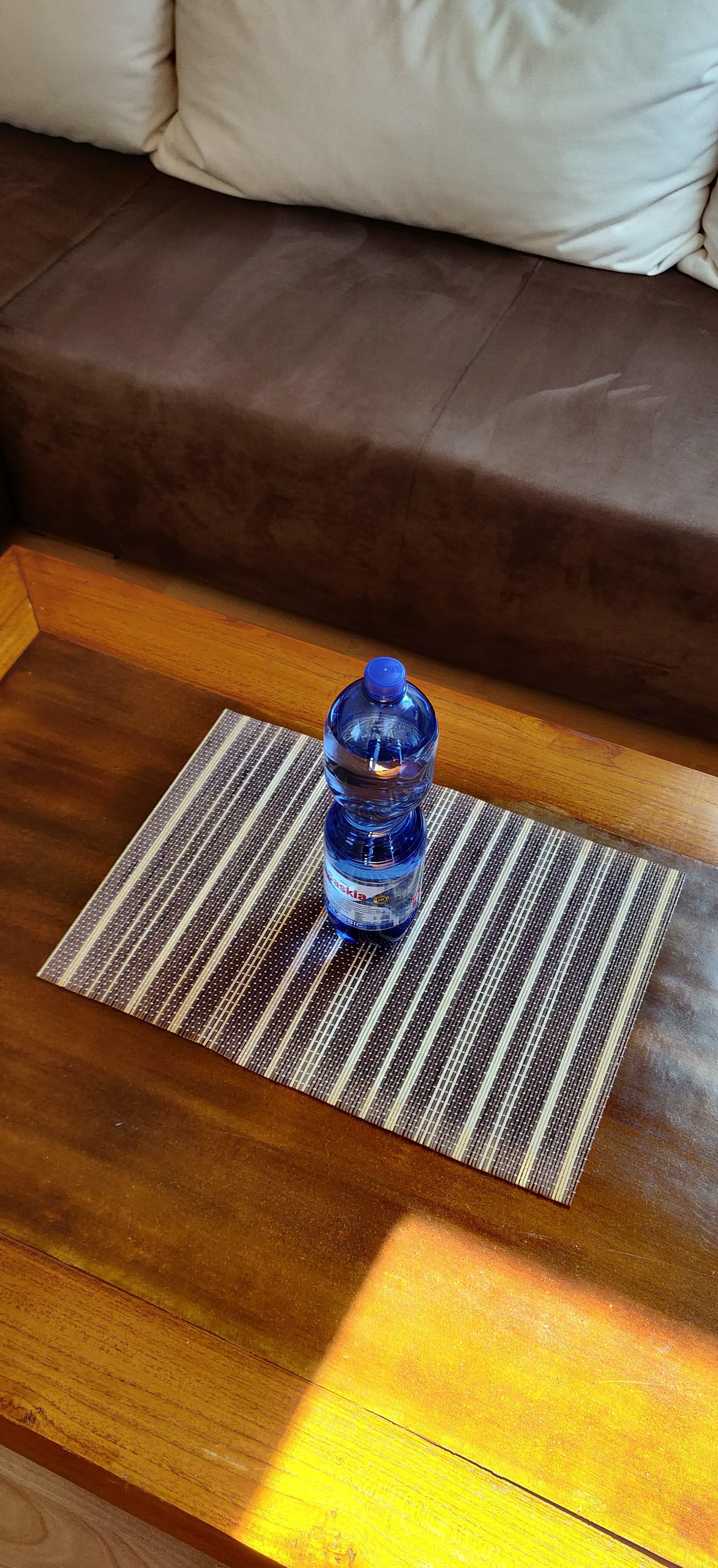bottle-plastic: (314, 654, 445, 949)
